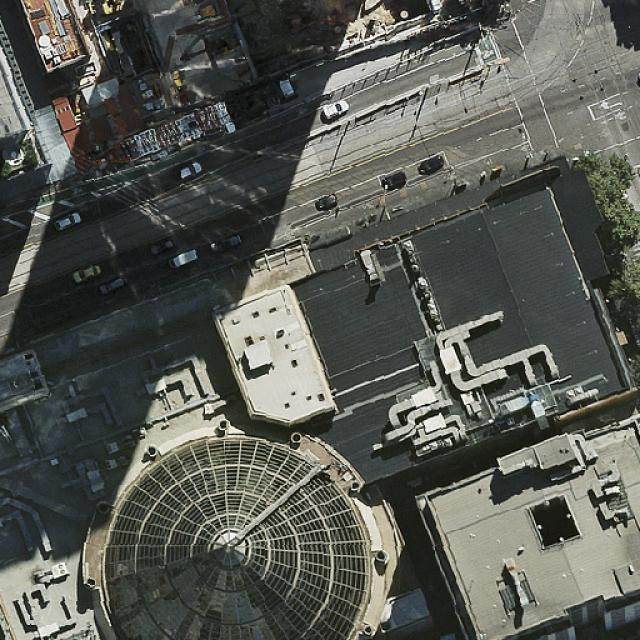Bike-Symbols: (516, 140, 533, 156), (480, 47, 496, 60), (614, 110, 630, 123), (444, 171, 462, 181), (69, 186, 86, 196), (362, 200, 376, 211), (294, 106, 308, 117), (193, 146, 207, 156), (283, 232, 296, 242)
